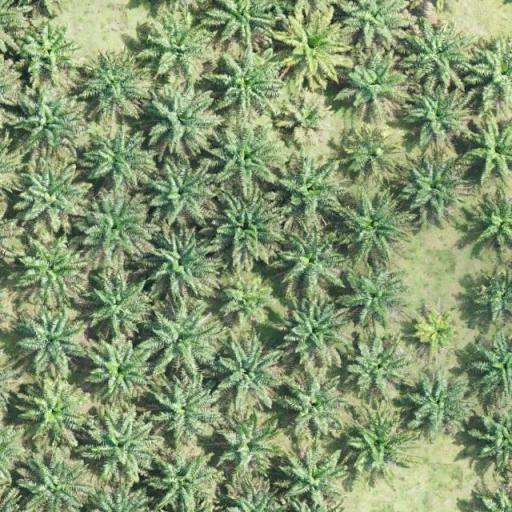Ganoderma: (420, 311, 458, 350), (286, 100, 324, 135)
